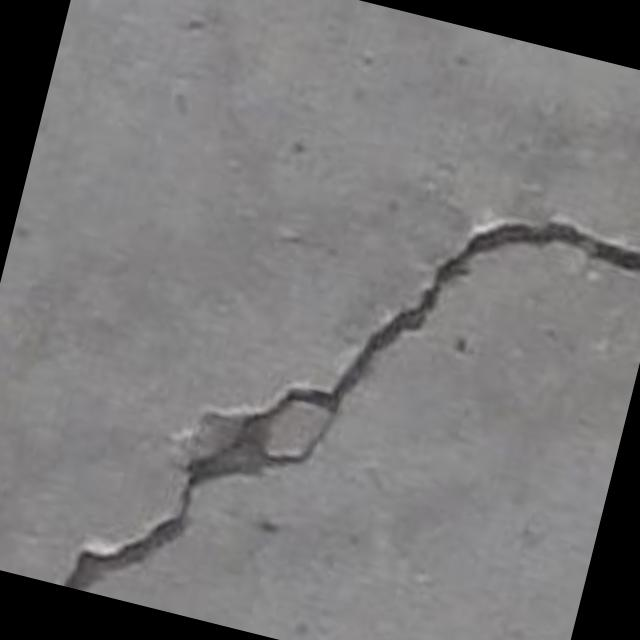crack: (61, 220, 639, 590)
